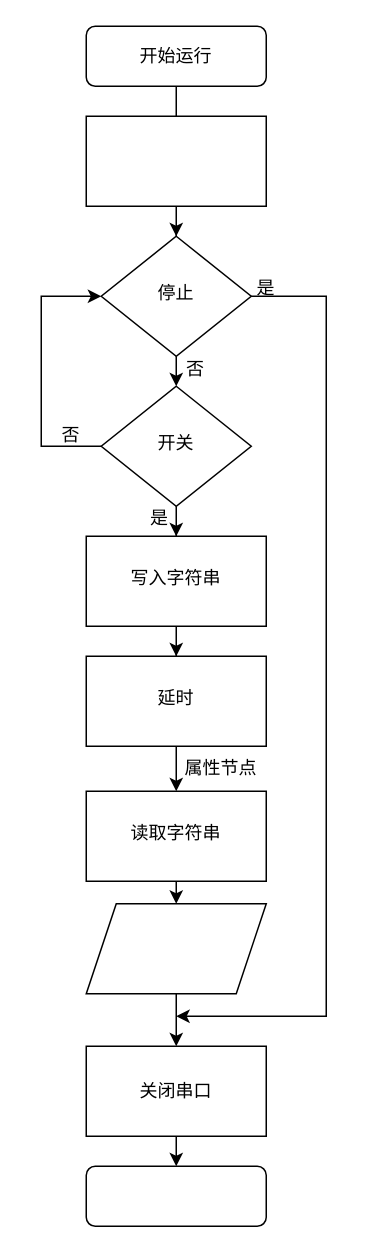
Image size: 365x1253. Some labels were removed from this diagram. Here are the shapes that lost their labels. From the top down, the centre of each, then its label:
the point at 175,160: 串口设置
the point at 175,948: 输出字符串
the point at 175,1195: 终止程序
